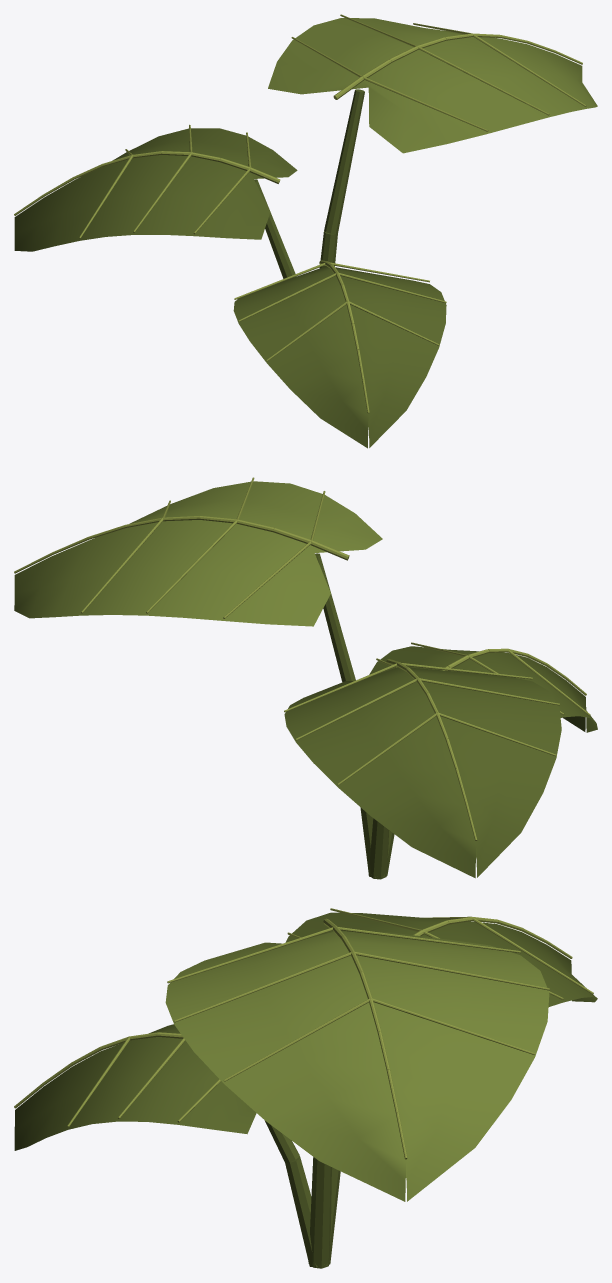
The picture shows the model from 3 angles, top to bottom: view 1: azimuth 30°, elevation 25°; view 2: azimuth 150°, elevation 25°; view 3: azimuth 270°, elevation 25°; orthographic projection. The views are drawn at different scales.
Parts seen in each view (by area): view 1: elephant-leaf; view 2: elephant-leaf; view 3: elephant-leaf.
Boxes of the visible parts, x1,y1,x2,y2 form: elephant-leaf: (14,14,597,448); elephant-leaf: (14,477,597,879); elephant-leaf: (14,908,597,1268).
Bounding box in the file's own units: 3.05 × 1.8 × 2.47.
